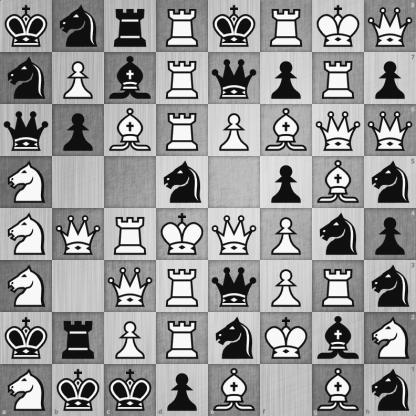B: (312, 364, 364, 416), (209, 364, 260, 416), (105, 105, 156, 156), (261, 105, 312, 156), (313, 157, 364, 208)
K: (157, 209, 208, 260), (261, 313, 312, 364), (313, 1, 364, 52)
N: (0, 364, 52, 416), (364, 312, 416, 364), (1, 157, 52, 208), (1, 209, 52, 260), (1, 261, 52, 312)
P: (53, 53, 104, 104), (105, 313, 156, 364), (209, 105, 260, 156), (261, 209, 312, 260), (261, 261, 312, 312)
Q: (364, 0, 416, 52), (364, 104, 416, 156), (53, 209, 104, 260), (105, 261, 156, 312), (209, 209, 260, 260), (313, 105, 364, 156)
R: (105, 209, 156, 260), (157, 1, 208, 52), (157, 53, 208, 104), (157, 105, 208, 156), (157, 261, 208, 312), (157, 313, 208, 364), (261, 1, 312, 52), (313, 53, 364, 104), (313, 261, 364, 312)
b: (105, 53, 156, 104), (313, 313, 364, 364)
board: (0, 0, 415, 415)
k: (52, 364, 104, 416), (104, 364, 156, 416), (1, 1, 52, 52), (1, 313, 52, 364), (209, 1, 260, 52)
n: (364, 156, 416, 209), (364, 260, 416, 312), (364, 364, 416, 416), (1, 53, 52, 104), (53, 1, 104, 52), (157, 157, 208, 208), (209, 313, 260, 364), (313, 209, 364, 260)
p: (156, 364, 209, 416), (364, 52, 416, 104), (364, 209, 416, 260), (53, 105, 104, 156), (261, 53, 312, 104), (261, 157, 312, 208)
q: (1, 105, 52, 156), (209, 53, 260, 104), (209, 261, 260, 312)
r: (53, 313, 104, 364), (105, 1, 156, 52)
